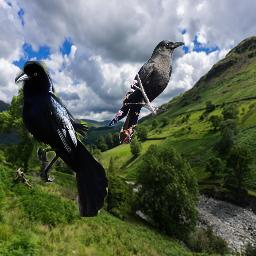Crow: (15, 61, 108, 217), (108, 39, 185, 143)
